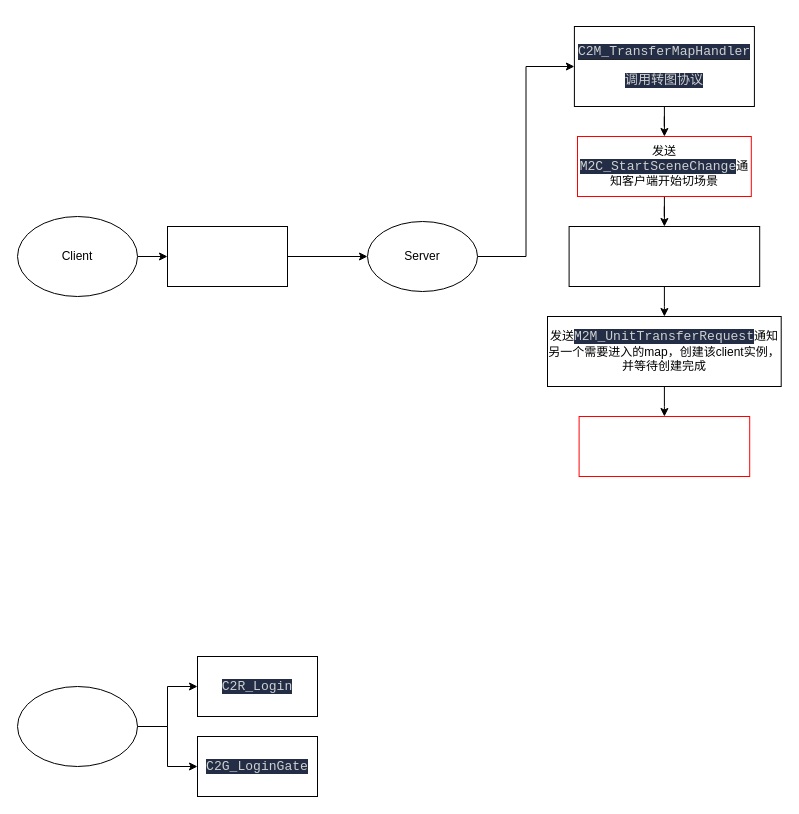
Image size: 799x814. Some labels were removed from this diagram. Here are the shapes that lost their labels. From the top down, the box of each, then its label:
(166, 226, 288, 286): 玩家转图 或进入某一张地图
(568, 226, 760, 286): 传送被标记为ITransfer的对象
(578, 416, 750, 476): 发送 M2C_CreateMyUnitPush 通知客户端创建client实例完成
(16, 686, 138, 766): Robot
